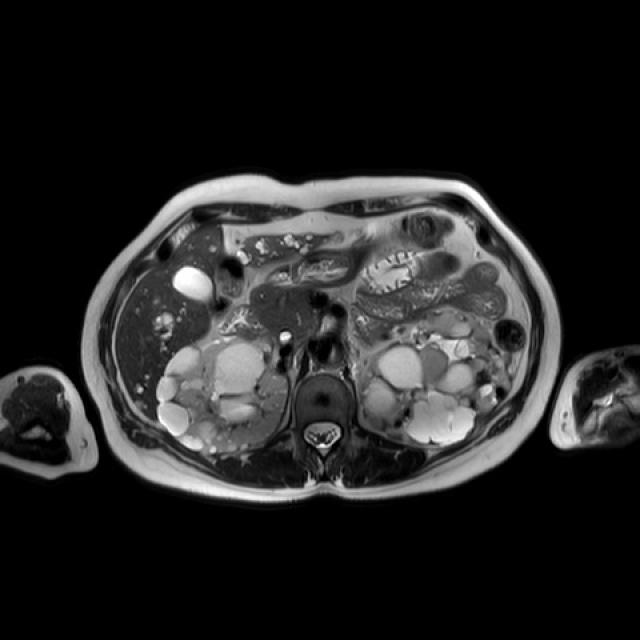sag: (155, 336, 289, 452)
sol: (364, 304, 511, 446)
